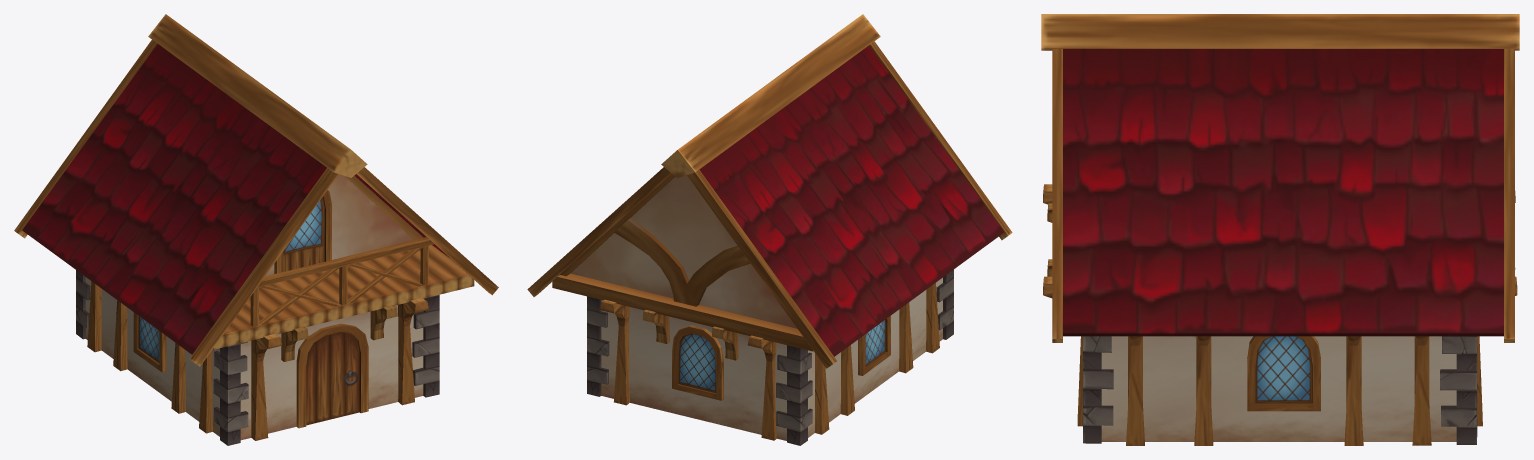
Rendered from Fantasy_House_3.FBX.
The picture shows the model from 3 angles, left to right: view 1: azimuth 30°, elevation 25°; view 2: azimuth 150°, elevation 25°; view 3: azimuth 270°, elevation 25°; orthographic projection. The views are drawn at different scales.
Visible parts, largest first — view 1: Fantasy_House_3; view 2: Fantasy_House_3; view 3: Fantasy_House_3.
Part boxes in pixels (<box>): Fantasy_House_3: <box>14,14,498,445</box>; Fantasy_House_3: <box>527,14,1012,445</box>; Fantasy_House_3: <box>1041,14,1519,445</box>.
Size of the model in its own units: 7.92 by 6.98 by 8.32.
